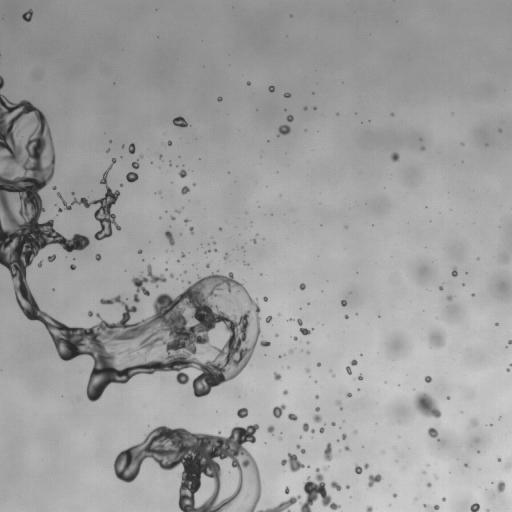droplet: (57, 158, 120, 240), (132, 265, 166, 302), (413, 391, 441, 418), (281, 453, 304, 472), (428, 329, 445, 348), (272, 404, 285, 418), (368, 474, 381, 487), (173, 116, 187, 127), (277, 125, 290, 136), (355, 464, 368, 474), (22, 9, 32, 21), (126, 172, 138, 182), (237, 408, 247, 418), (428, 427, 437, 437), (331, 481, 341, 490), (497, 481, 505, 492), (128, 143, 135, 154), (391, 152, 399, 161), (469, 418, 478, 426), (470, 503, 479, 511), (287, 413, 297, 420), (131, 161, 139, 169), (181, 186, 189, 194), (313, 414, 321, 422), (504, 460, 511, 469), (260, 340, 270, 346), (179, 169, 186, 177), (274, 372, 281, 380), (267, 425, 274, 433), (48, 255, 55, 262), (451, 268, 457, 276), (345, 366, 351, 374), (286, 115, 293, 121), (299, 283, 305, 290), (265, 316, 272, 322), (424, 376, 431, 382), (284, 486, 289, 494), (268, 86, 274, 92), (351, 359, 357, 365), (96, 254, 101, 260), (341, 300, 346, 306), (366, 506, 372, 511), (70, 264, 75, 269), (357, 375, 362, 380), (346, 392, 351, 397), (319, 427, 324, 432), (284, 93, 290, 97), (189, 227, 193, 233), (342, 433, 346, 439), (217, 97, 222, 101), (224, 253, 228, 258), (263, 296, 267, 301), (88, 311, 92, 316), (344, 446, 349, 450), (58, 208, 62, 212), (184, 219, 188, 223), (138, 249, 142, 253), (447, 296, 451, 300), (293, 336, 297, 340), (283, 390, 287, 394), (315, 407, 319, 411), (296, 444, 300, 448), (301, 449, 305, 453), (427, 483, 431, 487), (392, 493, 396, 497), (38, 261, 41, 266), (168, 141, 171, 145), (252, 239, 256, 242), (181, 253, 184, 257), (170, 273, 173, 277), (439, 286, 442, 290), (344, 315, 348, 318), (508, 340, 511, 344), (331, 422, 335, 425), (345, 485, 349, 488), (247, 82, 250, 85), (171, 216, 174, 219), (206, 264, 209, 267), (317, 363, 320, 366), (315, 395, 318, 398), (497, 458, 500, 461), (464, 464, 467, 467), (304, 107, 307, 109), (313, 107, 316, 109), (159, 155, 161, 158), (53, 186, 55, 189), (472, 293, 474, 296), (275, 334, 278, 336), (289, 350, 292, 352), (306, 369, 309, 371), (447, 396, 449, 399), (476, 438, 478, 441), (442, 498, 445, 500), (486, 509, 489, 511), (391, 113, 393, 115), (107, 149, 109, 151), (219, 227, 221, 229), (291, 318, 293, 320), (507, 368, 509, 370), (354, 430, 356, 432), (325, 467, 327, 469), (423, 471, 425, 473)
ligament: (0, 93, 260, 399), (113, 424, 339, 511), (297, 318, 311, 335), (324, 443, 332, 460), (165, 231, 174, 245), (302, 422, 314, 432), (424, 504, 439, 511), (0, 76, 4, 91), (510, 363, 511, 366)
